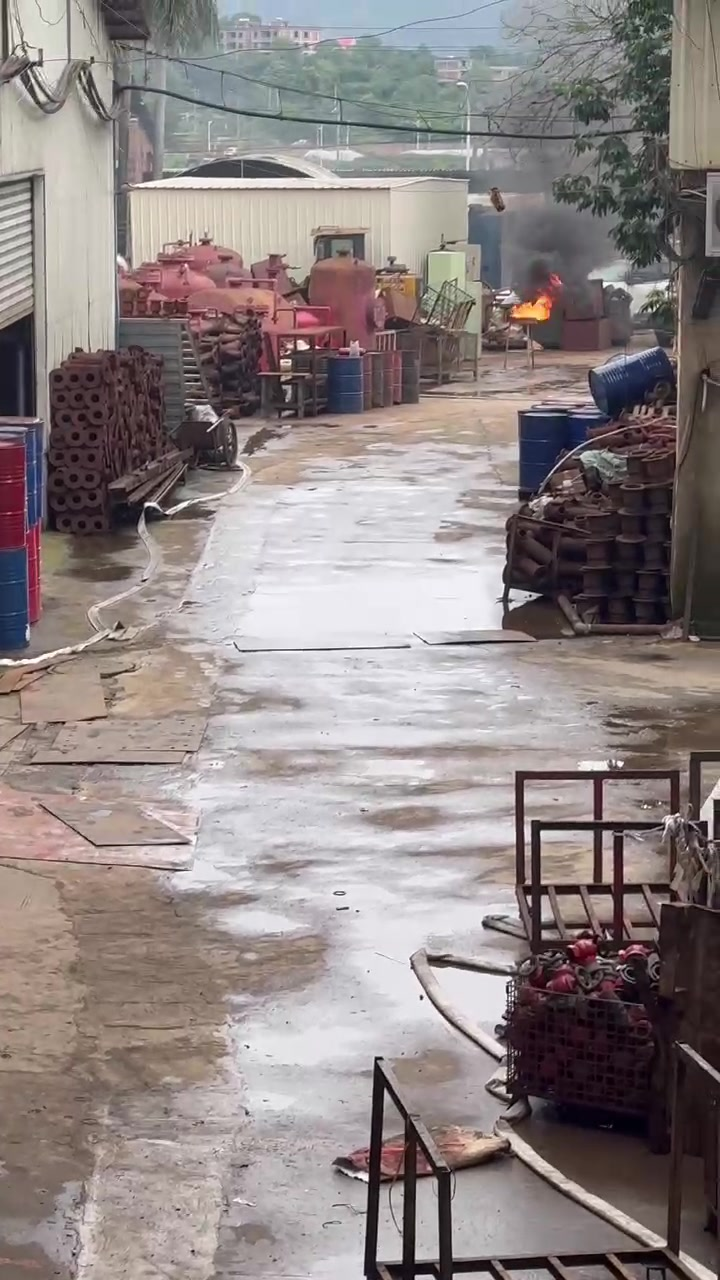fire: (510, 297, 550, 320)
